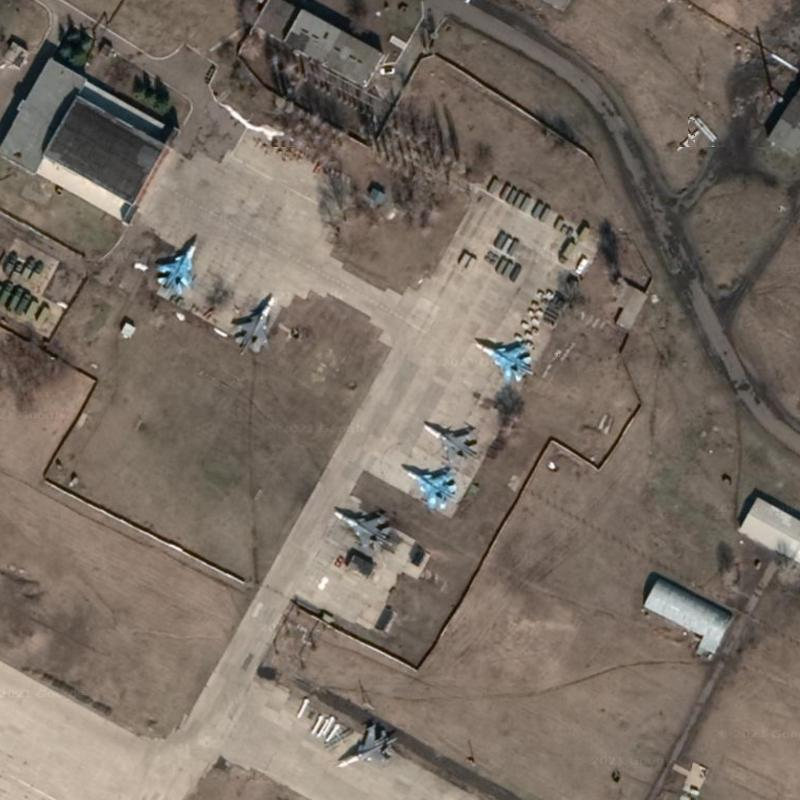A19: (334, 720, 398, 770), (231, 293, 276, 356), (472, 340, 534, 385), (330, 509, 393, 553), (421, 421, 479, 466), (401, 466, 459, 511), (153, 238, 196, 296)
